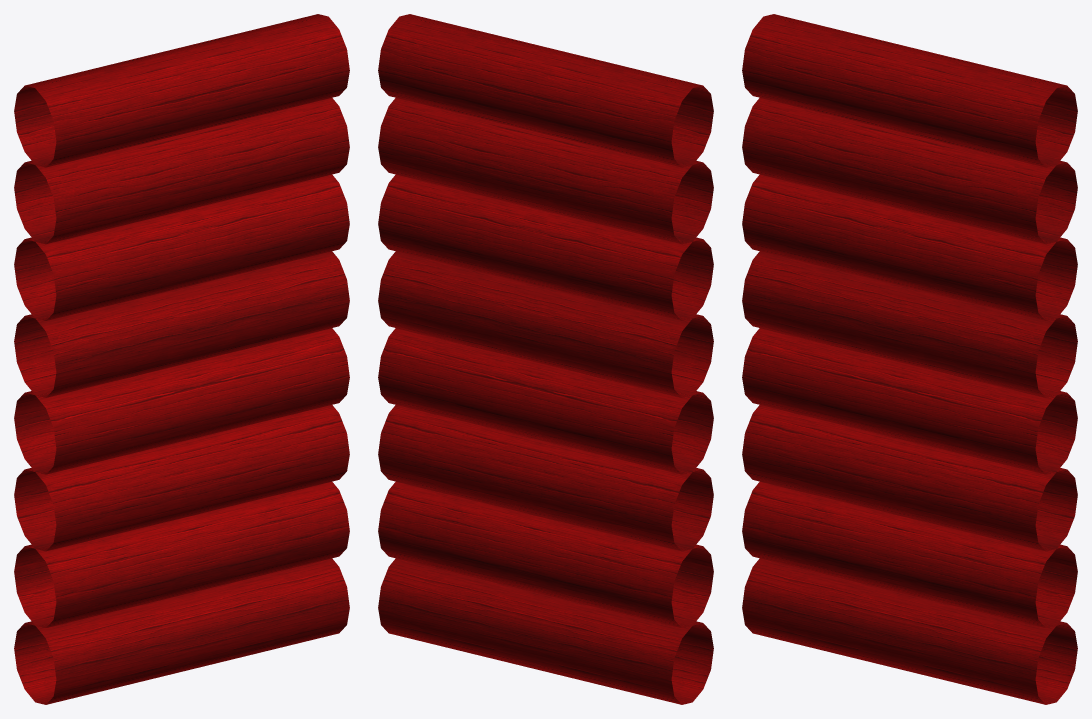
Rendered from WallLogLong01.fbx.
3 views of the same model, side by side, from view 1: azimuth 30°, elevation 25°; view 2: azimuth 150°, elevation 25°; view 3: azimuth 330°, elevation 25° (orthographic).
Parts seen in each view (by area): view 1: WallLogLong01_LOD0; view 2: WallLogLong01_LOD0; view 3: WallLogLong01_LOD0.
Part boxes in pixels (x1,y1,x2,y2): WallLogLong01_LOD0: (14,14,349,704); WallLogLong01_LOD0: (378,14,713,704); WallLogLong01_LOD0: (742,14,1077,704).
Size of what is drawn, in the model's own units: 1 by 2 by 0.25.
